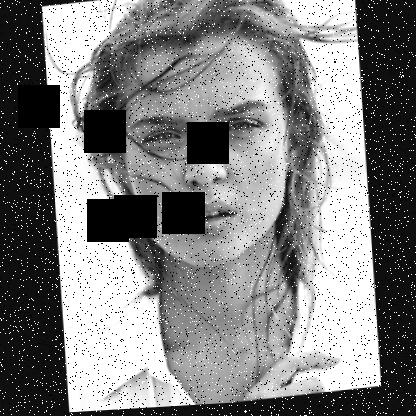Female: (115, 32, 302, 277)
